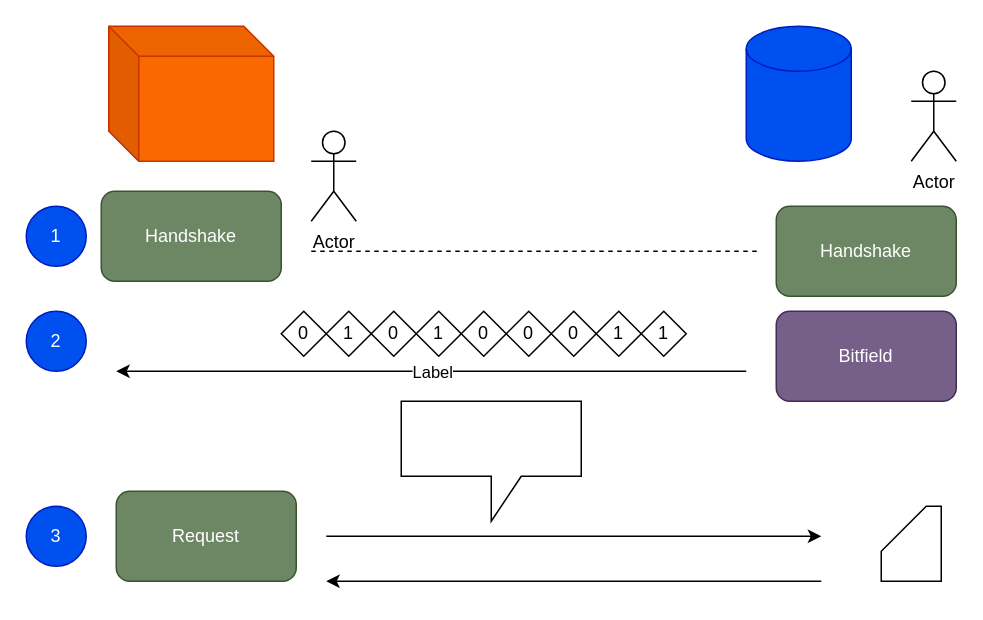
Image size: 983x620. Some labels were removed from this diagram. The centre of each missing label's shape, as x and y in pixels:
"Client" goes at (190,93).
"Give your pieces" goes at (490,460).
"Peer" goes at (798,93).
